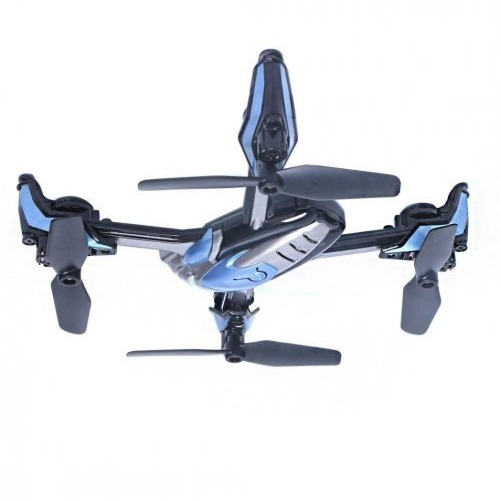drone: (11, 50, 471, 366)
